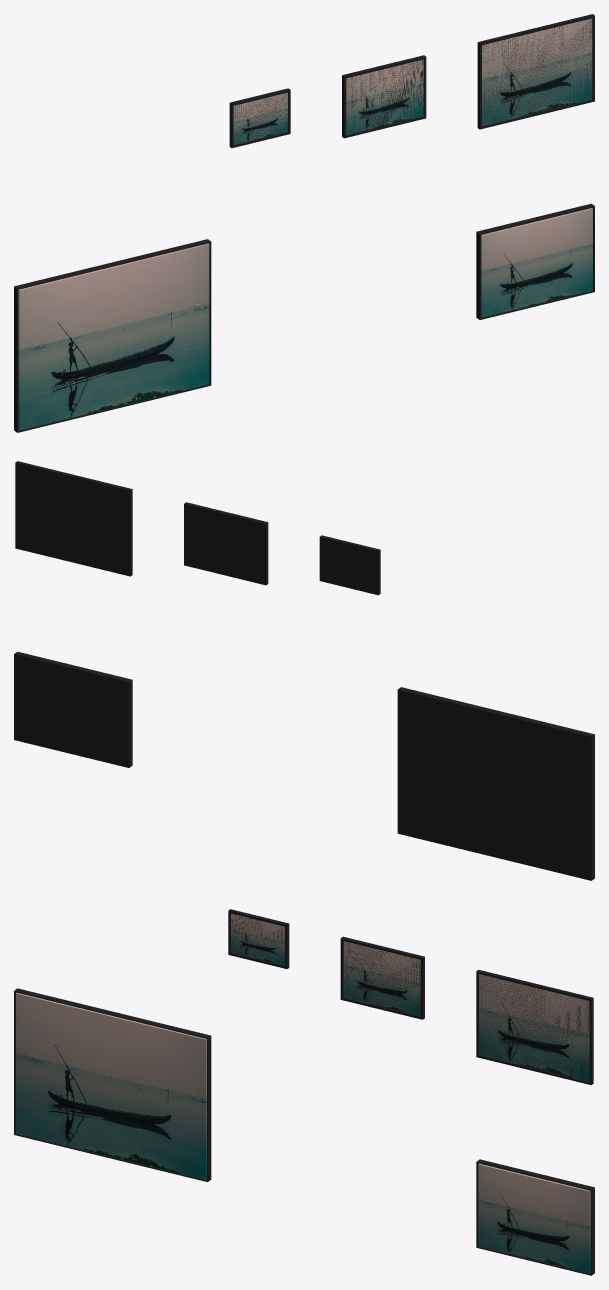
Rendered from bildschiff.dae.
The picture shows the model from 3 angles, top to bottom: view 1: azimuth 30°, elevation 25°; view 2: azimuth 150°, elevation 25°; view 3: azimuth 330°, elevation 25°; orthographic projection.
Parts seen in each view (by area): view 1: group_2, group_4 (×2), group_0, group_5 (×2), group_6 (×2), group_3 (×2), group_1; view 2: group_3, group_1, group_4, group_5, group_6; view 3: group_2, group_4 (×2), group_0, group_5 (×2), group_6 (×2), group_3, group_1.
Part boxes in pixels (x1,y1,x2,y2): group_2: [18, 243, 209, 430]; group_4 (×2): [477, 14, 594, 129]; group_0: [481, 208, 592, 317]; group_5 (×2): [342, 55, 426, 138]; group_6 (×2): [229, 88, 290, 148]; group_3 (×2): [14, 239, 211, 432]; group_1: [476, 203, 594, 319]; group_3: [397, 687, 594, 880]; group_1: [14, 651, 132, 767]; group_4: [15, 461, 132, 576]; group_5: [184, 502, 268, 585]; group_6: [319, 535, 380, 595]; group_2: [16, 992, 206, 1179]; group_4 (×2): [476, 969, 593, 1085]; group_0: [478, 1163, 590, 1273]; group_5 (×2): [340, 936, 424, 1019]; group_6 (×2): [228, 909, 289, 968]; group_3: [14, 988, 211, 1181]; group_1: [476, 1159, 594, 1275].
Bounding box in the file's own units: 170 × 1.77 × 77.68.
2 materials, 1 textured.
